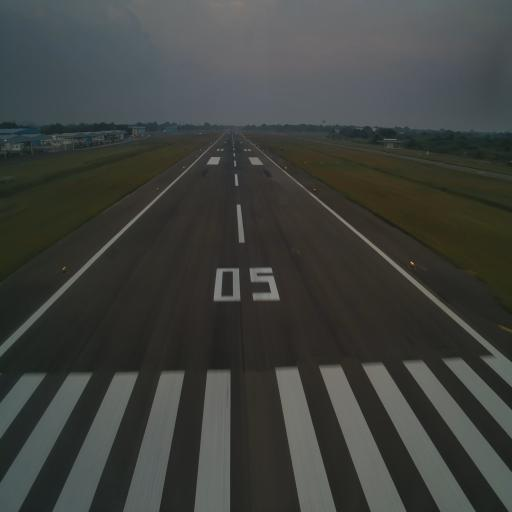on: (408, 257, 415, 271), (60, 264, 68, 274), (156, 186, 159, 192), (313, 187, 317, 191), (183, 164, 185, 169), (285, 166, 287, 169)
